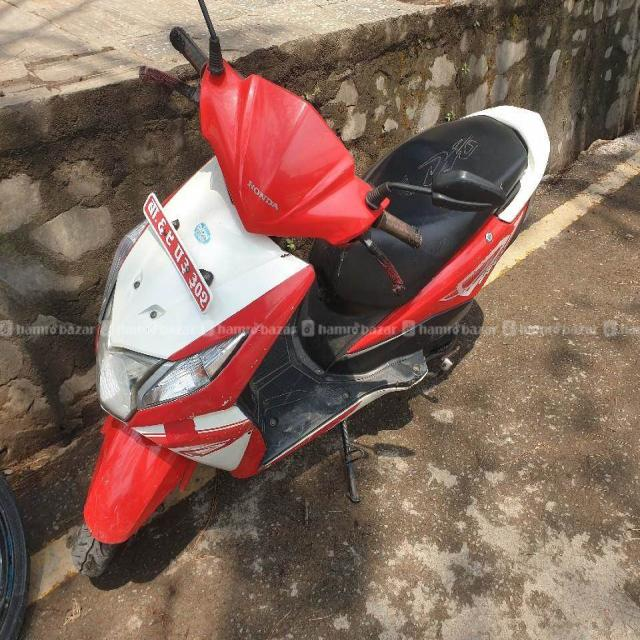License-plate: (141, 194, 212, 314)
